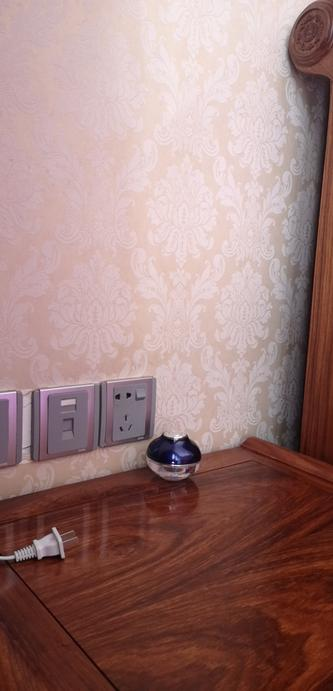switch: (136, 387, 149, 401)
